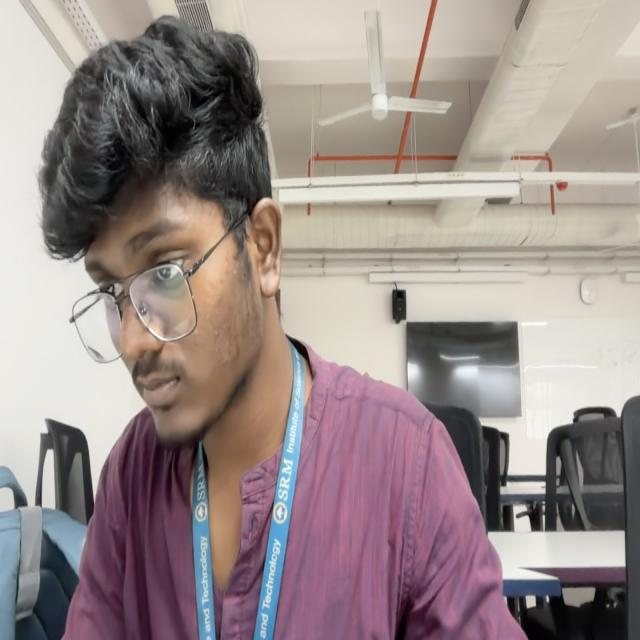ravindra: (39, 18, 284, 450)
